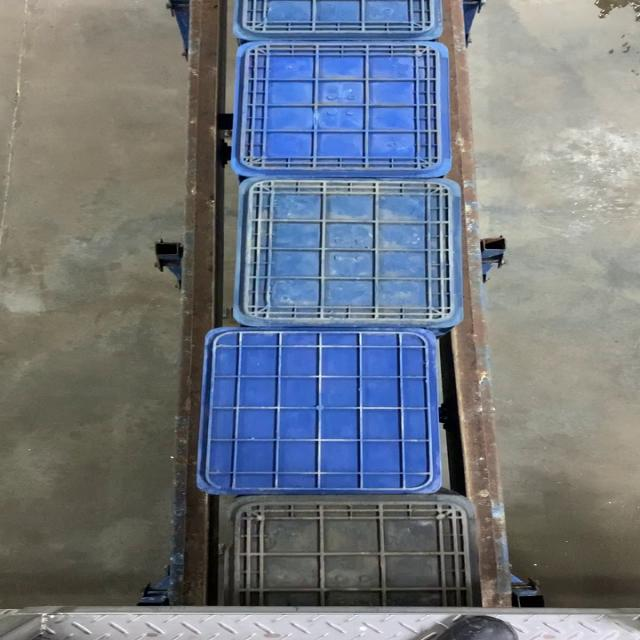Box: (197, 326, 439, 496), (234, 176, 464, 326), (234, 38, 455, 178)
